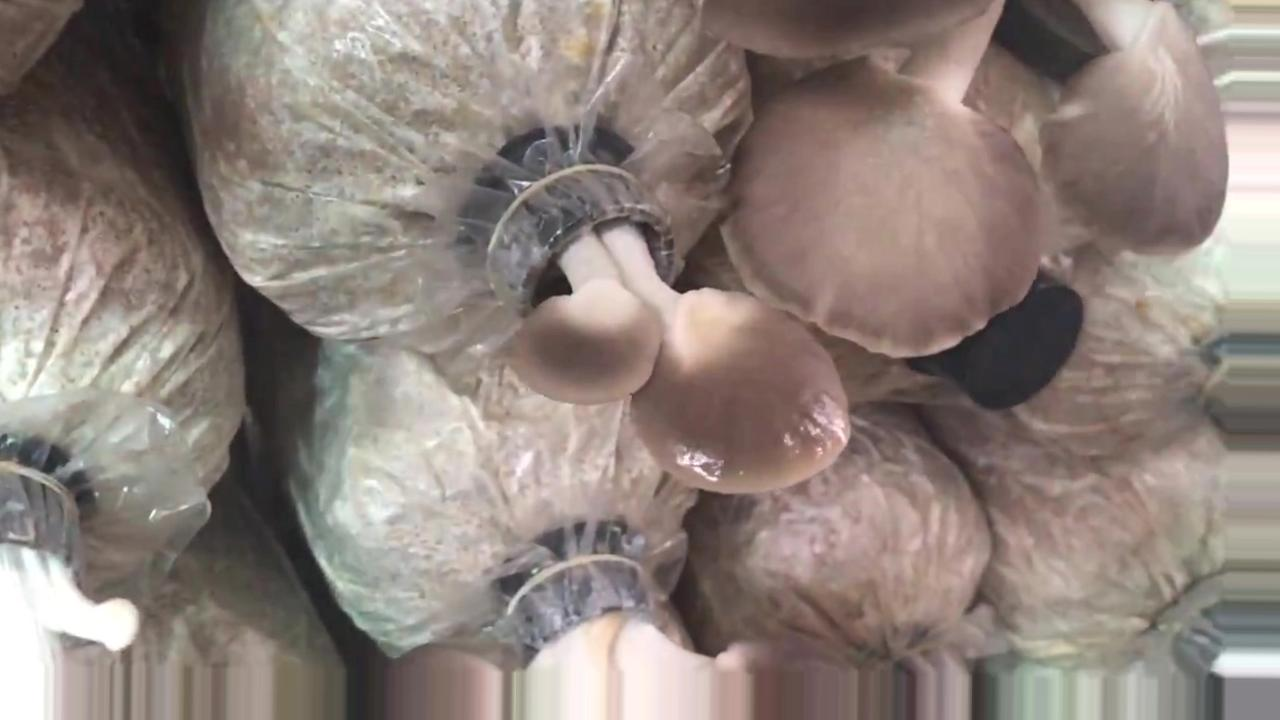nam: (721, 1, 1230, 367), (499, 170, 853, 498)
